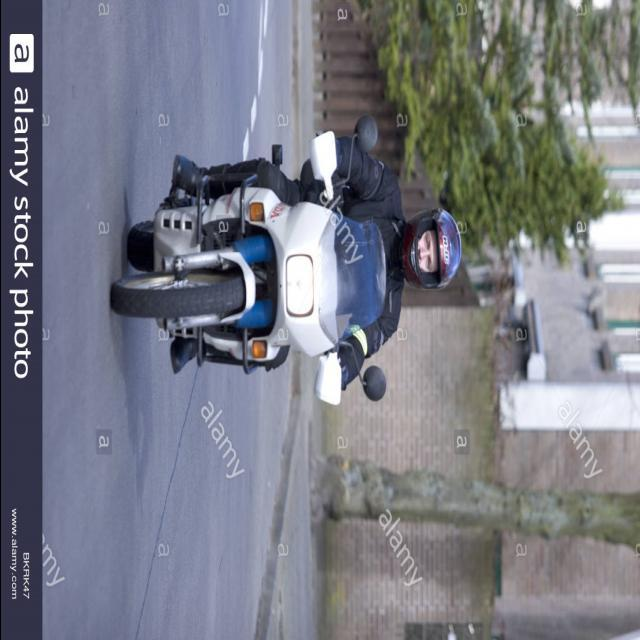motorcycle: (106, 112, 466, 410)
